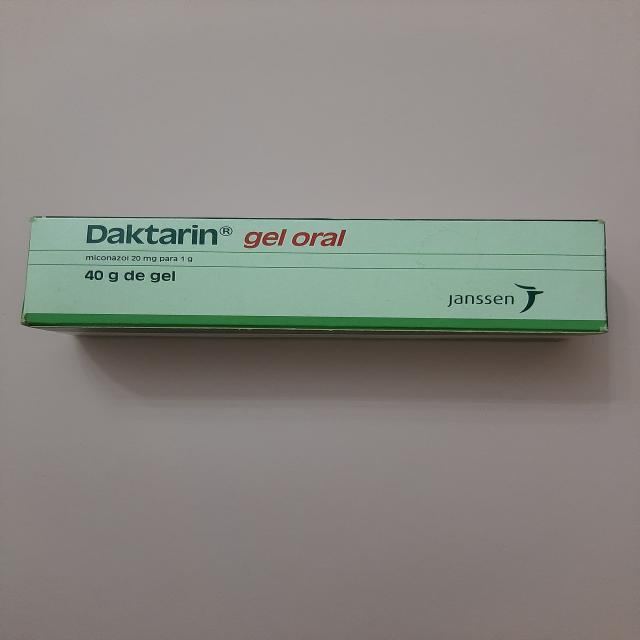Medicine Name: (83, 220, 219, 251)
